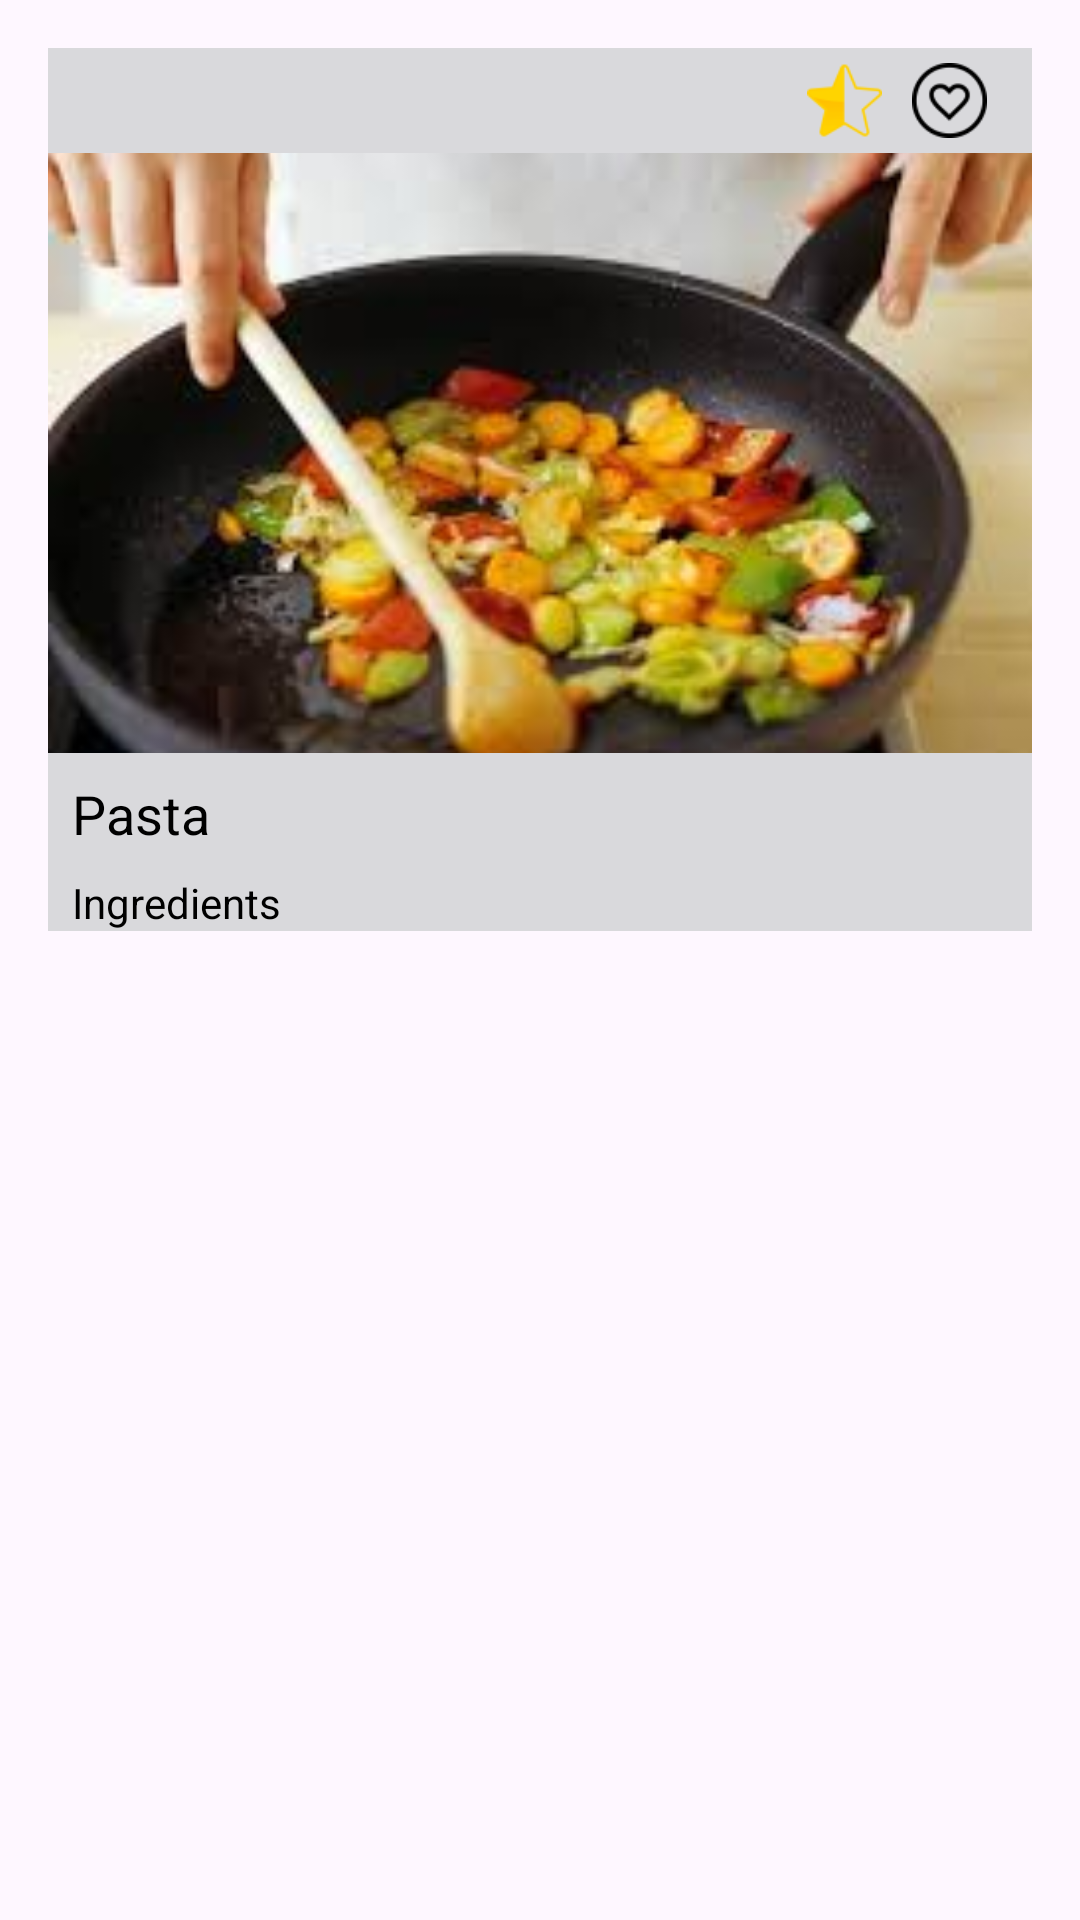

Named icons in this screenshot (1080px×1920px) and their centers, (x,y):
like heart: (949,100)
star: (844,100)
